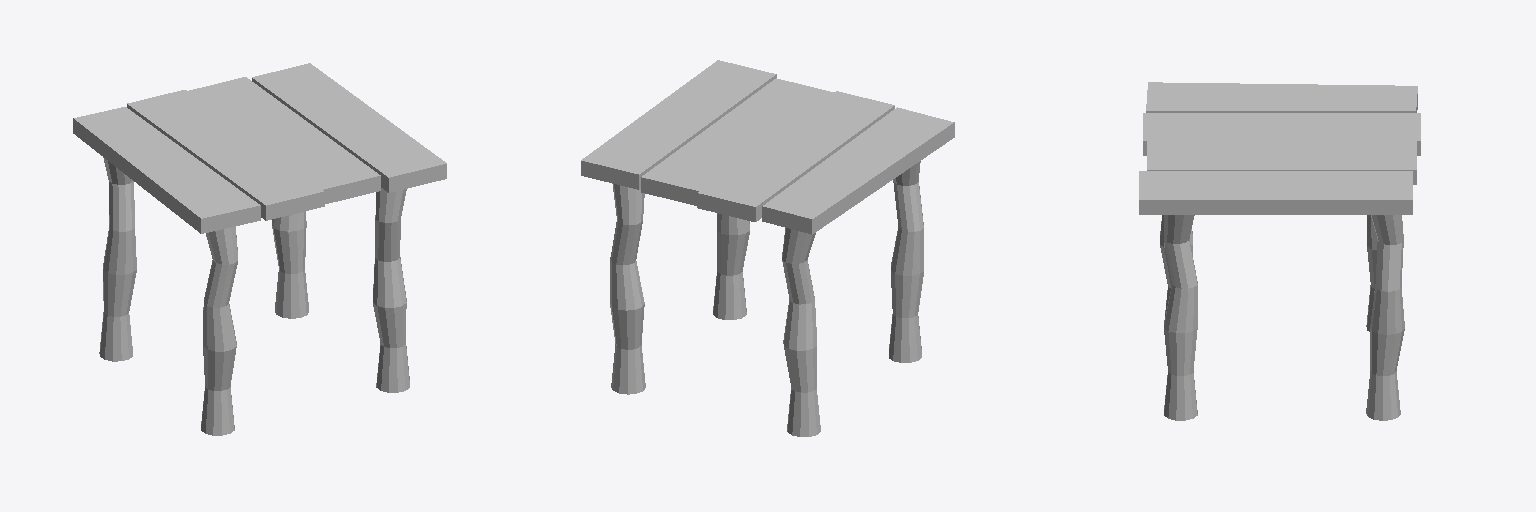
Rendered from table.obj.
3 views of the same model, side by side, from view 1: azimuth 30°, elevation 25°; view 2: azimuth 150°, elevation 25°; view 3: azimuth 270°, elevation 25° (orthographic).
Visible parts, largest first — view 1: cuboid, leg; view 2: cuboid, leg; view 3: cuboid, leg.
Part boxes in pixels (bbox=[...]): cuboid: bbox=[73, 63, 446, 233]; leg: bbox=[99, 157, 409, 435]; cuboid: bbox=[581, 60, 954, 234]; leg: bbox=[610, 161, 923, 436]; cuboid: bbox=[1139, 82, 1420, 214]; leg: bbox=[1160, 215, 1404, 420].
Bounding box in the file's own units: 1.03 × 0.9375 × 1.05.